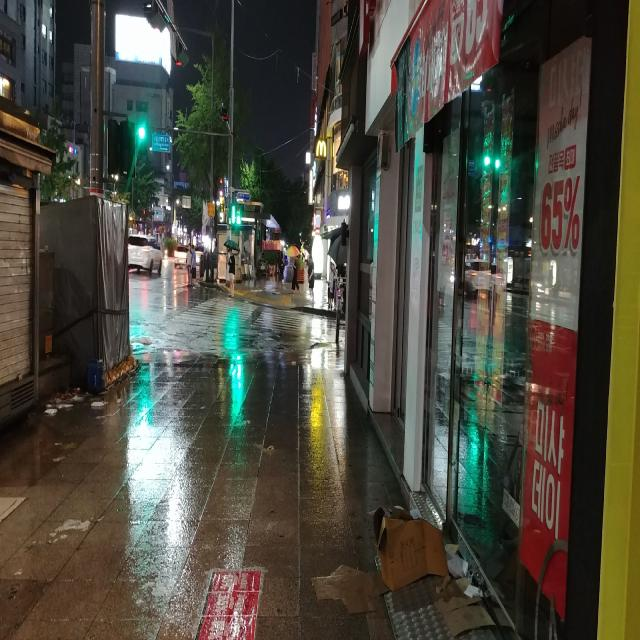초록불: (230, 202, 249, 231)
횡단보도: (164, 298, 305, 354)
